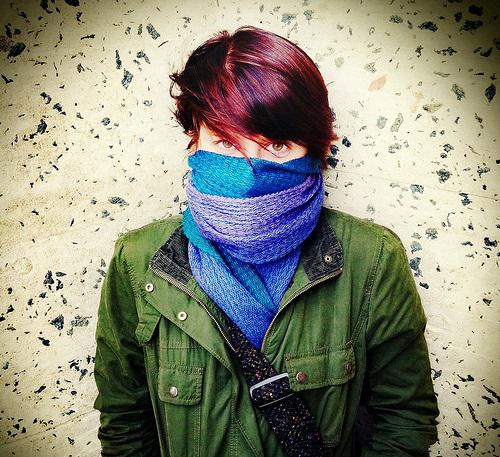OK: (194, 121, 306, 225)
